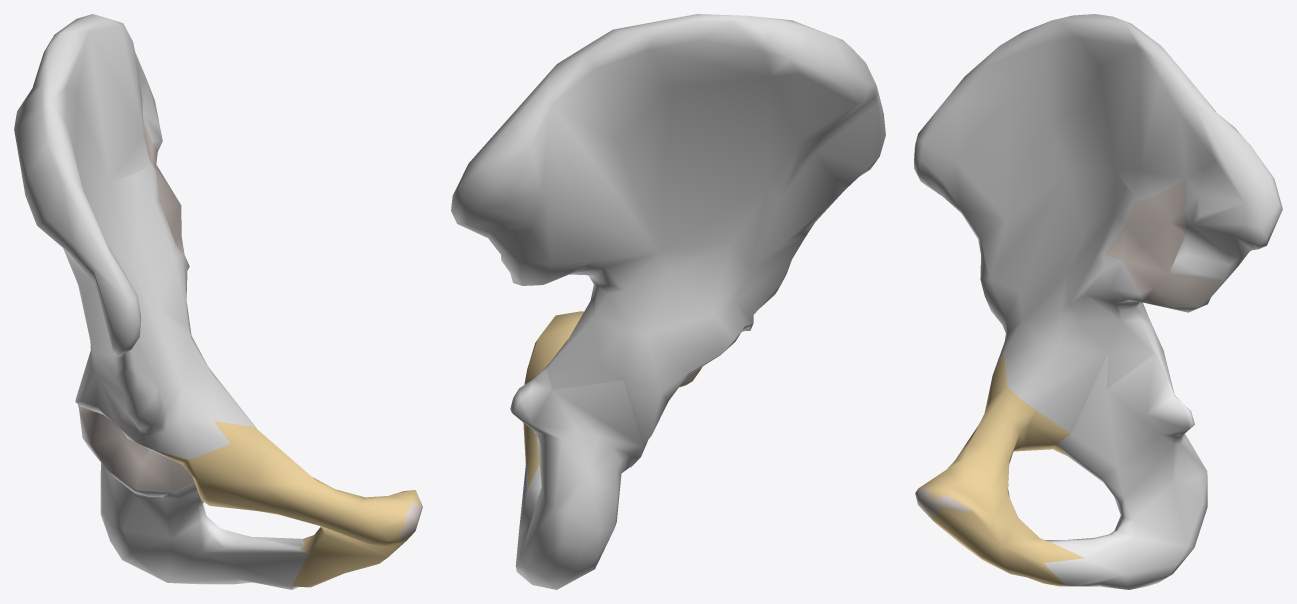
File: HIP_r.fbx
The picture shows the model from 3 angles, left to right: view 1: azimuth 30°, elevation 25°; view 2: azimuth 150°, elevation 25°; view 3: azimuth 270°, elevation 25°; orthographic projection. The views are drawn at different scales.
Visible parts, largest first — view 1: Hip bone.r.001; view 2: Hip bone.r.001; view 3: Hip bone.r.001.
Part boxes in pixels (<box>): Hip bone.r.001: <box>14,14,422,589</box>; Hip bone.r.001: <box>451,14,885,589</box>; Hip bone.r.001: <box>914,14,1282,589</box>.
Bounding box in the file's own units: 13.18 × 21.49 × 14.28.
